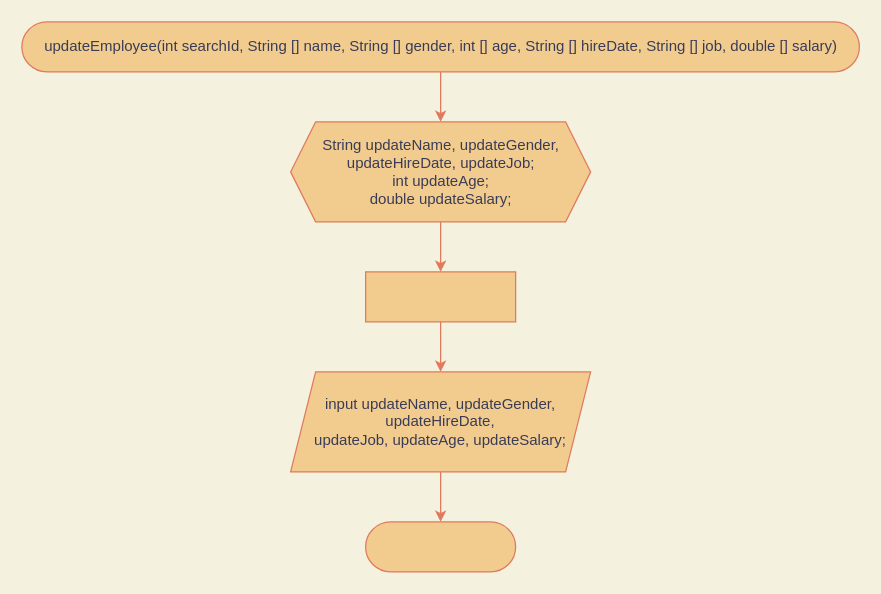
Some shapes in this 881 by 594 pixel diagram are drawn without their labels. Here are the shapes that lost their labels. From the top down, the centre of each, then its label:
At (440,296): "print(searchId)".
At (440,546): "End".
